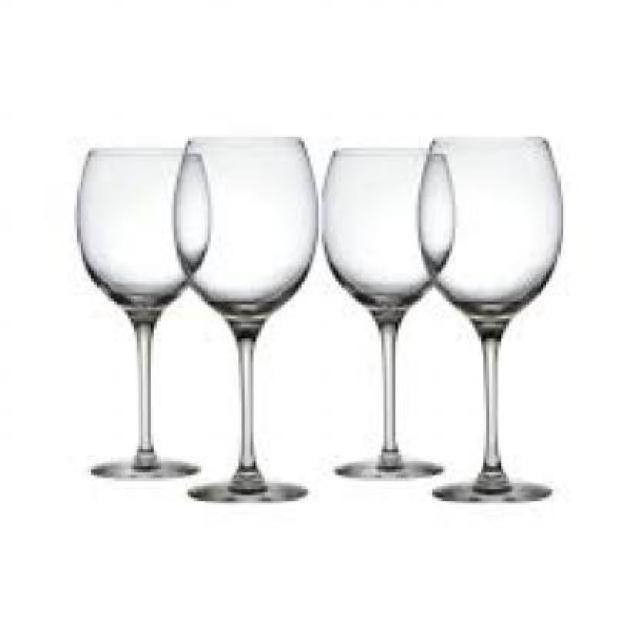kaca: (171, 124, 312, 496), (418, 134, 557, 497), (316, 144, 452, 476), (74, 145, 208, 472)
